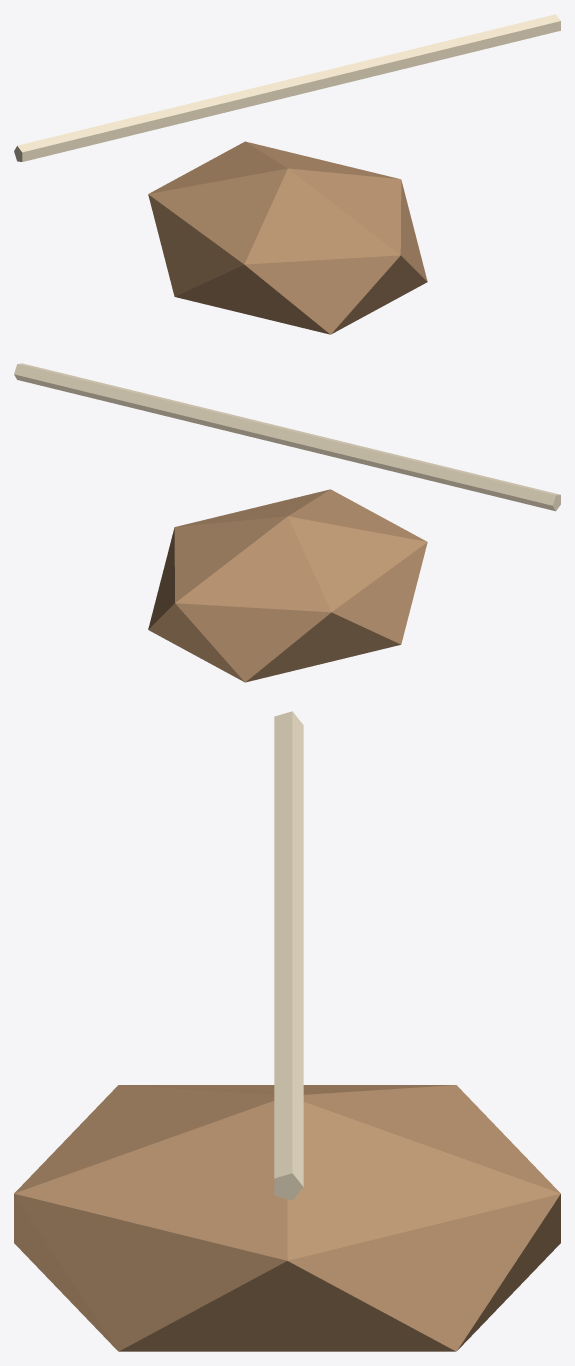
The model's file is trailCharm.glb.
3 views of the same model, one above another, from view 1: azimuth 30°, elevation 25°; view 2: azimuth 150°, elevation 25°; view 3: azimuth 270°, elevation 25° (orthographic). The views are drawn at different scales.
Visible parts, largest first — view 1: CharmCore, CharmCord; view 2: CharmCore, CharmCord; view 3: CharmCore, CharmCord.
Part boxes in pixels (bbox=[...]): CharmCore: bbox=[148, 141, 427, 334]; CharmCord: bbox=[14, 14, 560, 161]; CharmCore: bbox=[148, 489, 427, 682]; CharmCord: bbox=[14, 363, 560, 511]; CharmCore: bbox=[14, 1085, 560, 1351]; CharmCord: bbox=[274, 711, 303, 1200].
Bounding box in the file's own units: 0.68 × 0.2735 × 0.3403.
